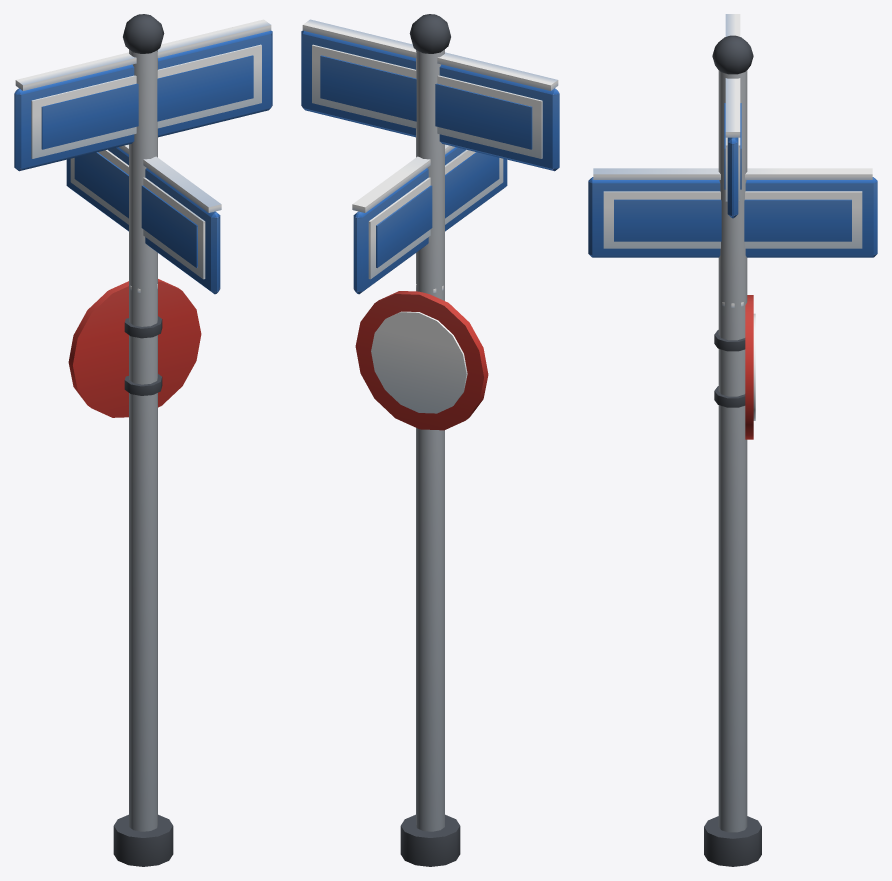
The model's file is ck_street_sign.fbx.
3 renders of one model, left to right at view 1: azimuth 30°, elevation 25°; view 2: azimuth 150°, elevation 25°; view 3: azimuth 270°, elevation 25°, orthographic. The views are drawn at different scales.
Parts seen in each view (by area): view 1: ck_street_sign; view 2: ck_street_sign; view 3: ck_street_sign.
Part boxes in pixels (bbox=[...]): ck_street_sign: bbox=[14, 14, 272, 866]; ck_street_sign: bbox=[301, 14, 559, 866]; ck_street_sign: bbox=[588, 14, 877, 866].
Size of the model in its own units: 125 by 390 by 125.
